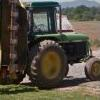Tractor: (24, 2, 100, 94)
